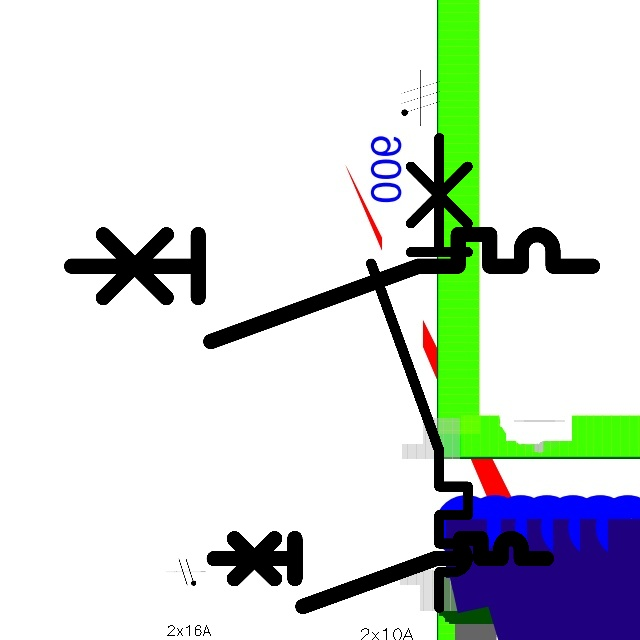interruptor_termomagnetico: (58, 221, 606, 355), (359, 125, 480, 619), (205, 530, 554, 615)
